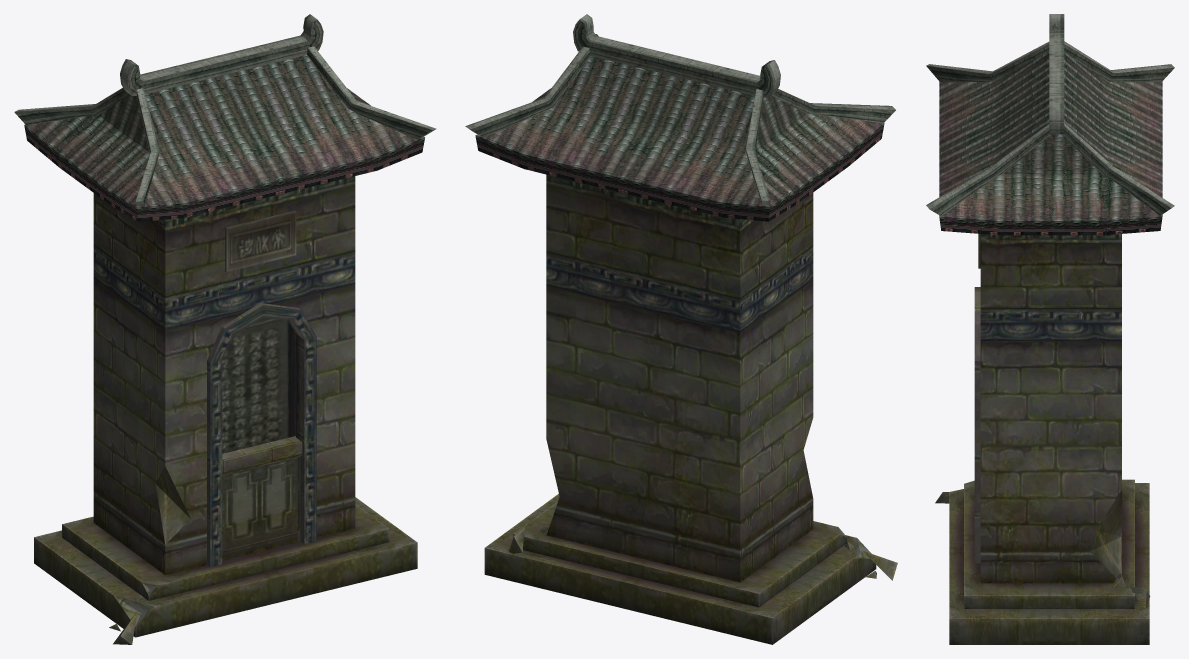
Rendered from paifang_xn_60.FBX.
The picture shows the model from 3 angles, left to right: view 1: azimuth 30°, elevation 25°; view 2: azimuth 150°, elevation 25°; view 3: azimuth 270°, elevation 25°; orthographic projection. The views are drawn at different scales.
Visible parts, largest first — view 1: paifang_xn_60; view 2: paifang_xn_60; view 3: paifang_xn_60.
Part boxes in pixels (bbox=[...]): paifang_xn_60: bbox=[14, 14, 436, 644]; paifang_xn_60: bbox=[465, 14, 897, 644]; paifang_xn_60: bbox=[926, 14, 1174, 644].
Size of what is drawn, in the model's own units: 444 by 720 by 311.
